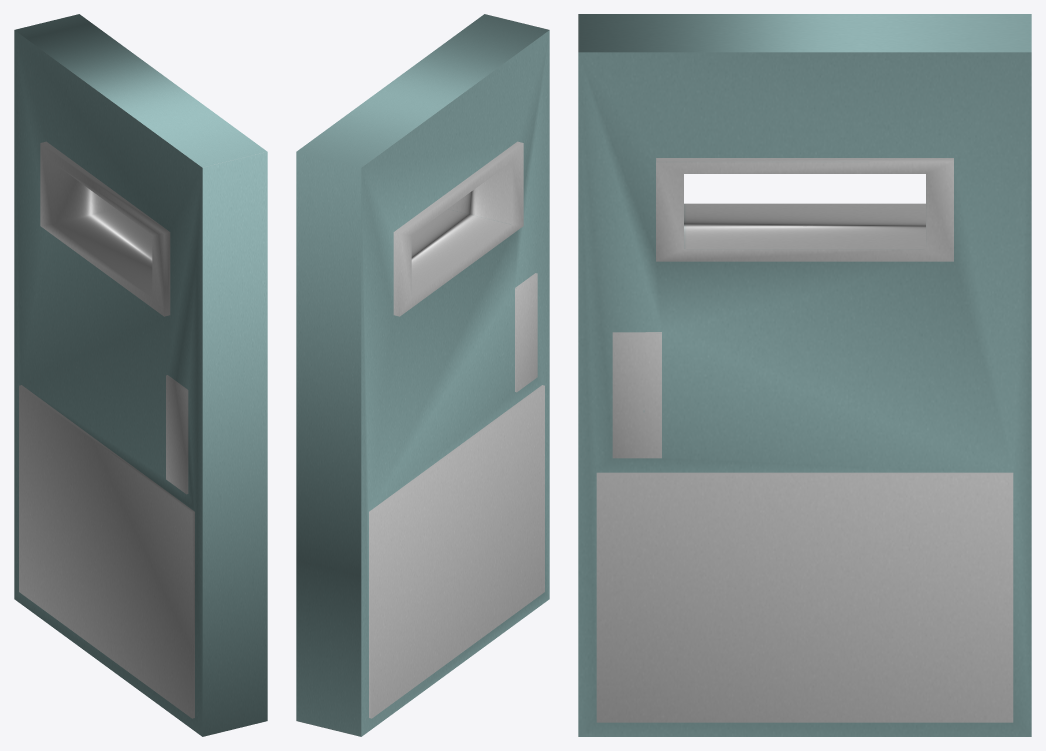
File: MetalDoor.fbx
3 views of the same model, side by side, from view 1: azimuth 30°, elevation 25°; view 2: azimuth 150°, elevation 25°; view 3: azimuth 270°, elevation 25° (orthographic). The views are drawn at different scales.
Visible parts, largest first — view 1: Cube; view 2: Cube; view 3: Cube.
Part boxes in pixels (x1=…): Cube: x1=14, y1=14, x2=267, y2=736; Cube: x1=296, y1=14, x2=549, y2=736; Cube: x1=578, y1=14, x2=1031, y2=736.
Bounding box in the file's own units: 71.27 × 500 × 300.
